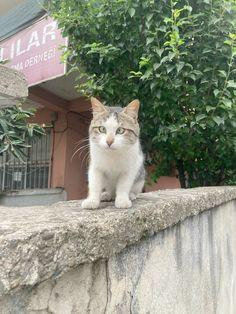kedo: (82, 97, 145, 207)
